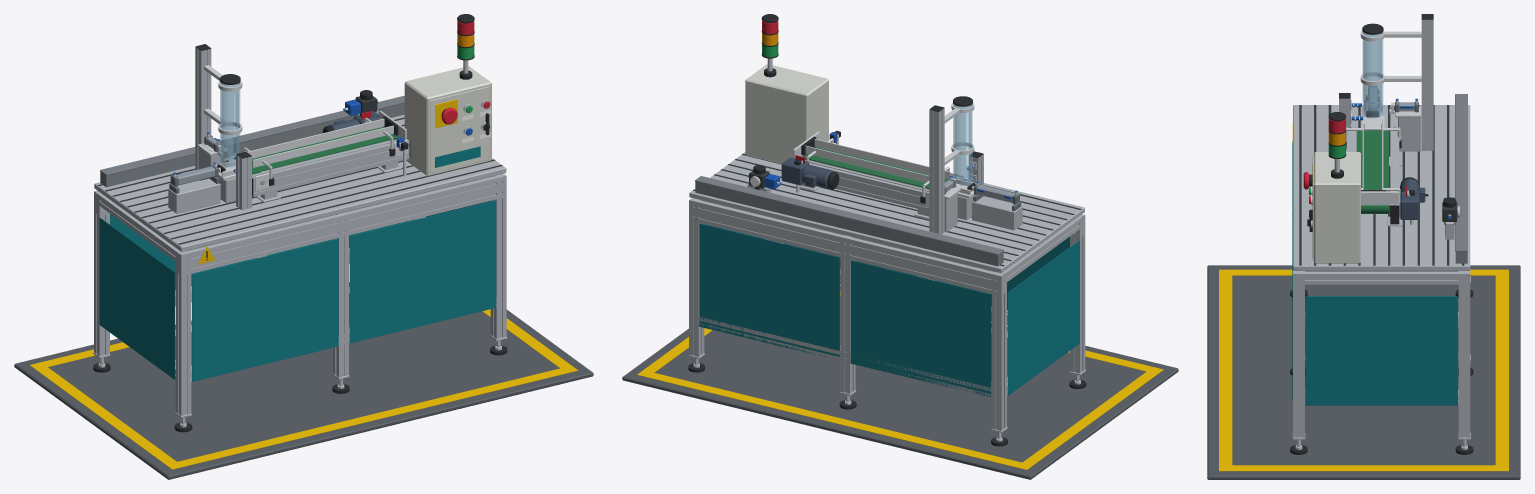
File: feeder.glb
3 views of the same model, side by side, from view 1: azimuth 30°, elevation 25°; view 2: azimuth 150°, elevation 25°; view 3: azimuth 270°, elevation 25° (orthographic). The views are drawn at different scales.
Visible parts, largest first — view 1: static_accent, static_base, static_alu, static_cabinet, static_warn, static_inox, static_duct, static_valve, static_black, glass_magazine, belt_1; view 2: static_accent, static_alu, static_base, static_cabinet, static_duct, static_warn, static_inox, static_valve, static_black, glass_magazine, static_motor, belt_1; view 3: static_base, static_alu, static_accent, static_warn, static_cabinet, static_valve, static_inox, static_duct, belt_1, static_black, glass_magazine, static_motor (+1 smaller).
Boxes of the visible parts, box(x1,y1,x2,y2) form: static_accent: box(99, 146, 496, 381); static_base: box(14, 282, 593, 479); static_alu: box(93, 47, 507, 418); static_cabinet: box(404, 66, 491, 176); static_warn: box(30, 99, 577, 469); static_inox: box(197, 65, 408, 190); static_duct: box(100, 95, 404, 187); static_valve: box(98, 96, 502, 244); static_black: box(93, 14, 507, 432); glass_magazine: box(220, 82, 240, 167); belt_1: box(252, 127, 398, 174); static_accent: box(699, 223, 1079, 397); static_alu: box(688, 108, 1085, 432); static_base: box(622, 286, 1178, 479); static_cabinet: box(745, 64, 828, 163); static_duct: box(695, 176, 1003, 266); static_warn: box(637, 291, 1163, 469); static_inox: box(793, 102, 976, 206); static_valve: box(693, 153, 1081, 266); static_black: box(688, 14, 1086, 446); glass_magazine: box(953, 104, 972, 185); static_motor: box(781, 157, 833, 188); belt_1: box(802, 147, 947, 188); static_base: box(1207, 265, 1520, 479); static_alu: box(1292, 19, 1470, 439); static_accent: box(1292, 140, 1457, 405); static_warn: box(1219, 123, 1508, 471); static_cabinet: box(1312, 152, 1360, 263); static_valve: box(1299, 105, 1464, 265); static_inox: box(1346, 30, 1454, 234); static_duct: box(1455, 94, 1467, 263); belt_1: box(1356, 130, 1388, 213); static_black: box(1290, 14, 1473, 454); glass_magazine: box(1362, 32, 1383, 118); static_motor: box(1400, 179, 1425, 219).
Size of the model in its own units: 1.69 by 1.24 by 1.06.
